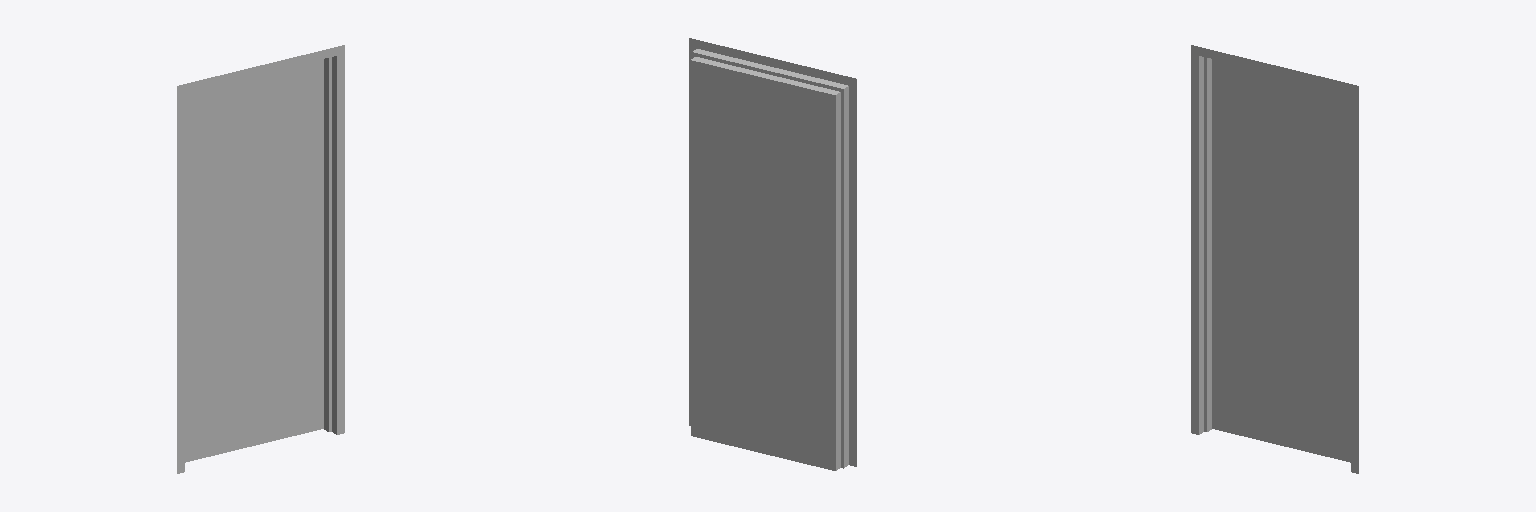
Rendered from door.obj.
The picture shows the model from 3 angles: view 1: azimuth 30°, elevation 25°; view 2: azimuth 150°, elevation 25°; view 3: azimuth 330°, elevation 25°; orthographic projection.
Visible parts, largest first — view 1: Cube.011_Cube.012; view 2: Cube.011_Cube.012; view 3: Cube.011_Cube.012.
Boxes of the visible parts, x1,y1,x2,y2 form: Cube.011_Cube.012: [177, 45, 344, 473]; Cube.011_Cube.012: [689, 38, 856, 470]; Cube.011_Cube.012: [1191, 45, 1358, 473].
Size of the model in its own units: 1 by 2.2 by 0.1.